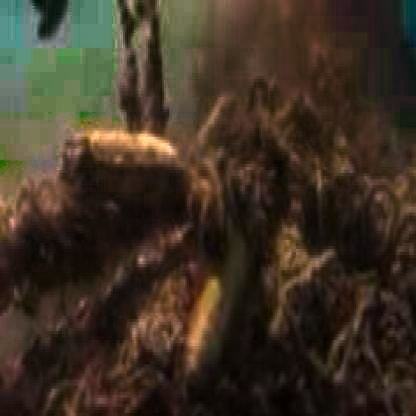net: (143, 106, 402, 380)
